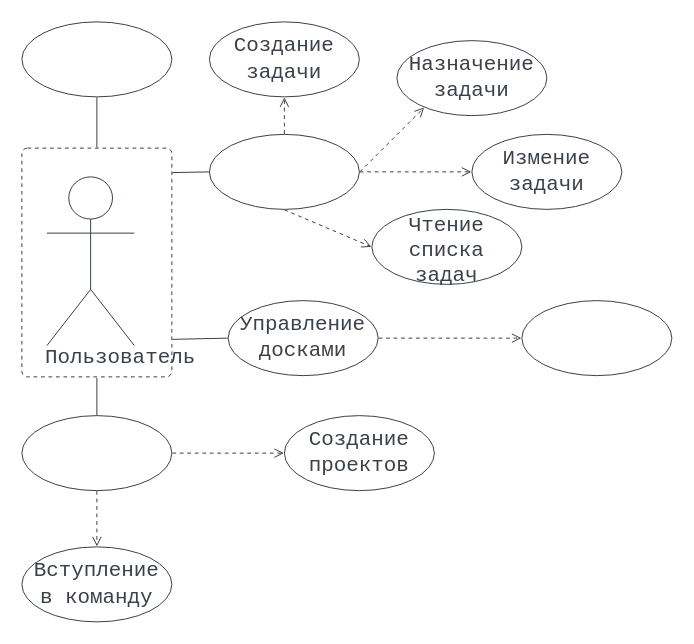
This 694x644 diagram has some shape labels left out. The shapes that lost their labels are listed below. From the top down, each one's centre as x and y in pixels, then its label:
point (96, 59): Авторизация
point (283, 171): Управление задачами
point (596, 338): Создание доски
point (96, 452): Управление проектами
